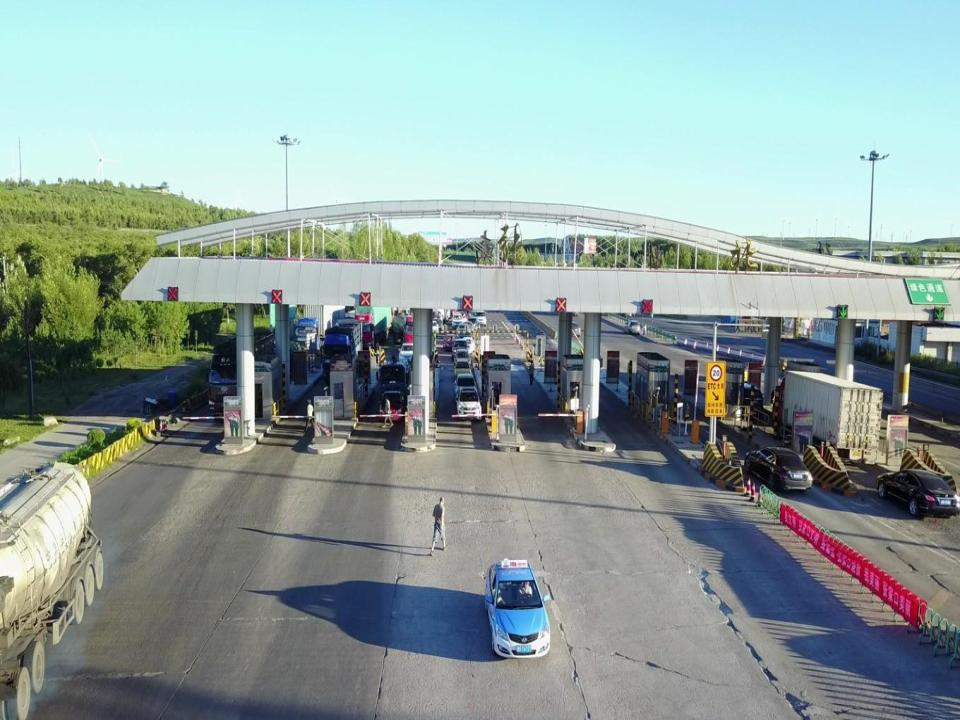car: (484, 558, 551, 661), (874, 466, 960, 514), (743, 442, 816, 492), (728, 382, 764, 413), (454, 383, 482, 419), (377, 390, 402, 418), (454, 373, 477, 395), (452, 359, 472, 379), (454, 349, 471, 372), (382, 396, 394, 428), (560, 319, 580, 337), (398, 342, 416, 360), (624, 319, 640, 334)
truck: (0, 457, 105, 720), (769, 372, 884, 467), (206, 331, 278, 419), (322, 318, 362, 384), (376, 356, 412, 394)
